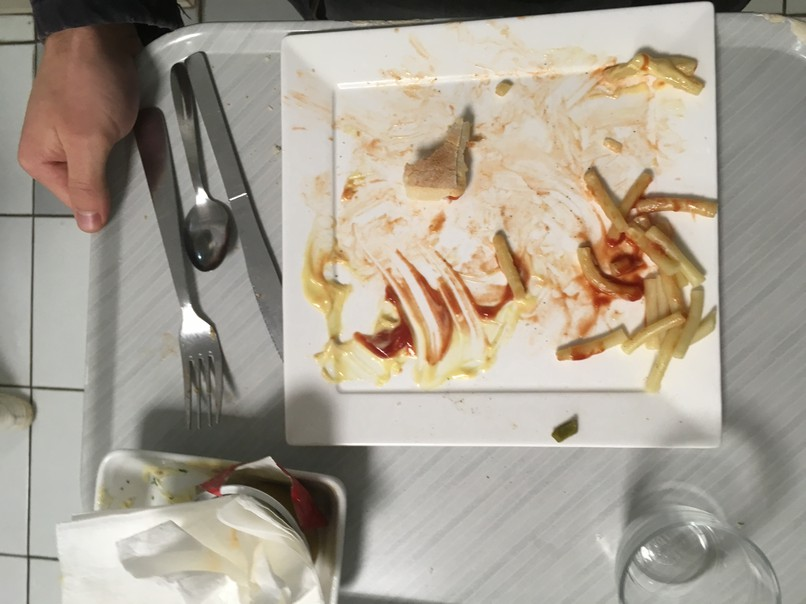cup: (605, 485, 806, 603)
cutlery: (120, 107, 237, 437), (179, 46, 298, 352), (163, 50, 234, 275)
orga: (576, 167, 715, 389), (405, 114, 475, 206), (615, 44, 709, 102)
trash: (67, 518, 299, 604), (209, 458, 316, 519)
